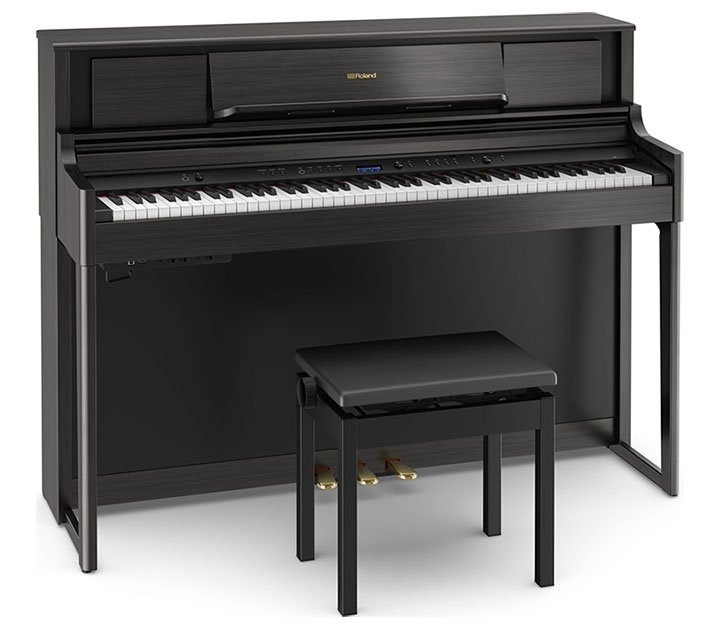Piano: (24, 1, 718, 621)
